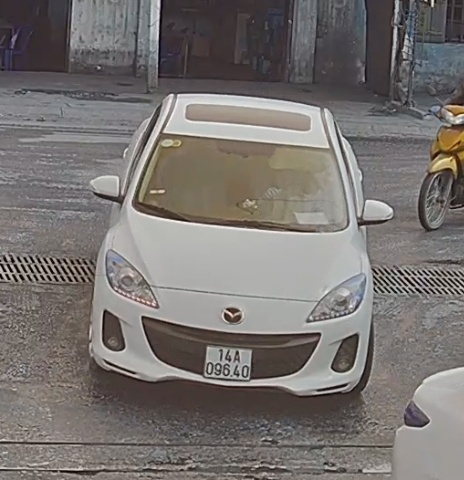vehicle plate: (201, 333, 260, 393)
